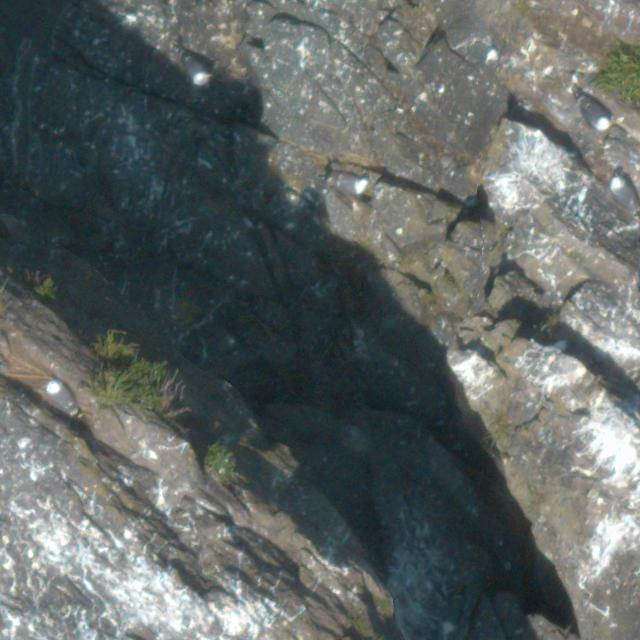umineko: (174, 49, 212, 87), (47, 382, 74, 411), (610, 178, 634, 208), (333, 177, 367, 194), (586, 105, 609, 129)
